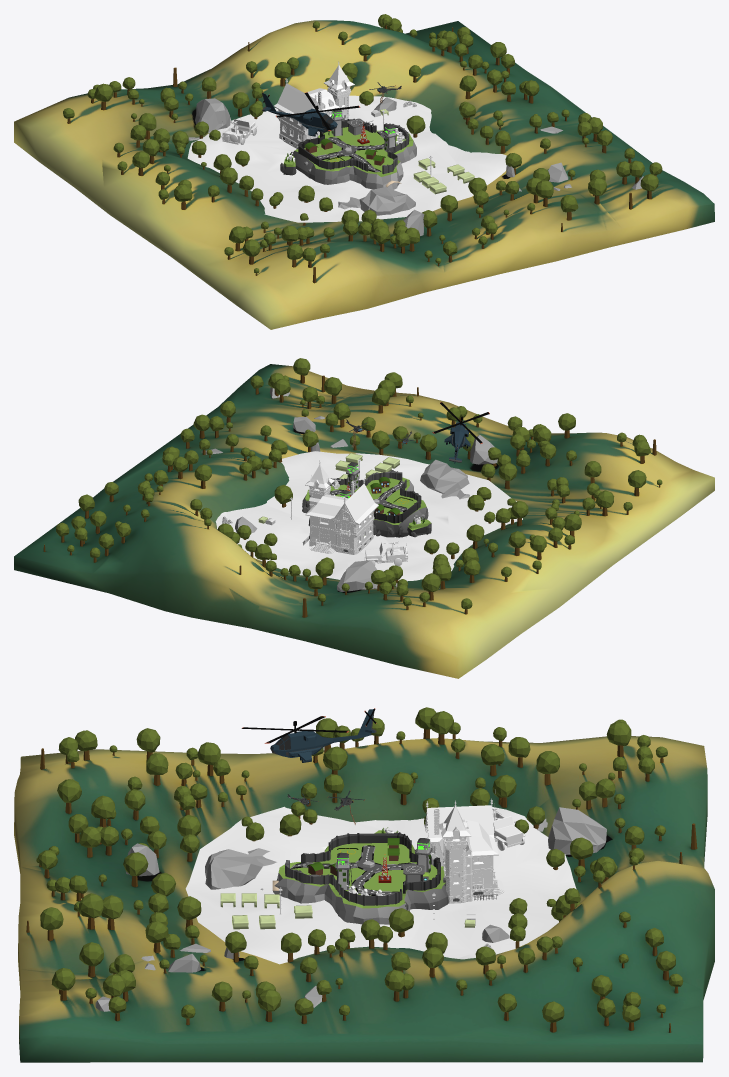
Rendered from sample-main.glb.
3 renders of one model, top to bottom at view 1: azimuth 30°, elevation 25°; view 2: azimuth 150°, elevation 25°; view 3: azimuth 270°, elevation 25°, orthographic. The views are drawn at different scales.
Visible parts, largest first — view 1: Floor, Trees, Plane, World9-Miitary, Rocks, roof, Helicopter body, borders, house body, car; view 2: Floor, Trees, Plane, World9-Miitary, Rocks, roof, borders, house body, car, Helicopter body; view 3: Floor, Trees, Plane, World9-Miitary, Rocks, roof, borders, Helicopter body, house body, car.
Part boxes in pixels (x1=…): Floor: x1=14, y1=20, x2=714, y2=329; Trees: x1=63, y1=14, x2=662, y2=283; Plane: x1=187, y1=95, x2=506, y2=222; World9-Miitary: x1=280, y1=82, x2=416, y2=189; Rocks: x1=188, y1=97, x2=643, y2=235; roof: x1=273, y1=61, x2=354, y2=114; Helicopter body: x1=262, y1=93, x2=337, y2=136; borders: x1=278, y1=82, x2=351, y2=148; house body: x1=280, y1=82, x2=349, y2=143; car: x1=222, y1=119, x2=257, y2=144; Floor: x1=14, y1=364, x2=714, y2=678; Trees: x1=43, y1=358, x2=662, y2=617; Plane: x1=215, y1=451, x2=522, y2=581; World9-Miitary: x1=302, y1=419, x2=431, y2=544; Rocks: x1=201, y1=387, x2=497, y2=591; roof: x1=305, y1=460, x2=378, y2=525; borders: x1=302, y1=482, x2=374, y2=554; house body: x1=309, y1=481, x2=372, y2=548; car: x1=364, y1=542, x2=407, y2=563; Helicopter body: x1=444, y1=422, x2=470, y2=463; Floor: x1=14, y1=736, x2=714, y2=1062; Trees: x1=26, y1=707, x2=697, y2=1032; Plane: x1=185, y1=806, x2=576, y2=964; World9-Miitary: x1=273, y1=790, x2=448, y2=924; Rocks: x1=95, y1=807, x2=606, y2=1011; roof: x1=424, y1=798, x2=498, y2=858; borders: x1=430, y1=829, x2=504, y2=903; Helicopter body: x1=270, y1=709, x2=376, y2=762; house body: x1=431, y1=828, x2=491, y2=895; car: x1=492, y1=811, x2=525, y2=847.
Size of the model in its own units: 65.14 by 15.67 by 66.38.
80 materials, 3 textured.
